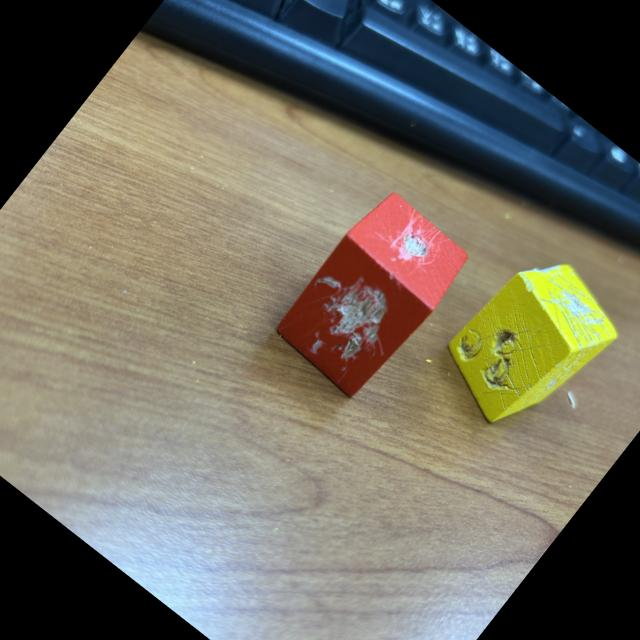broken: (268, 184, 477, 406), (423, 234, 634, 453)
